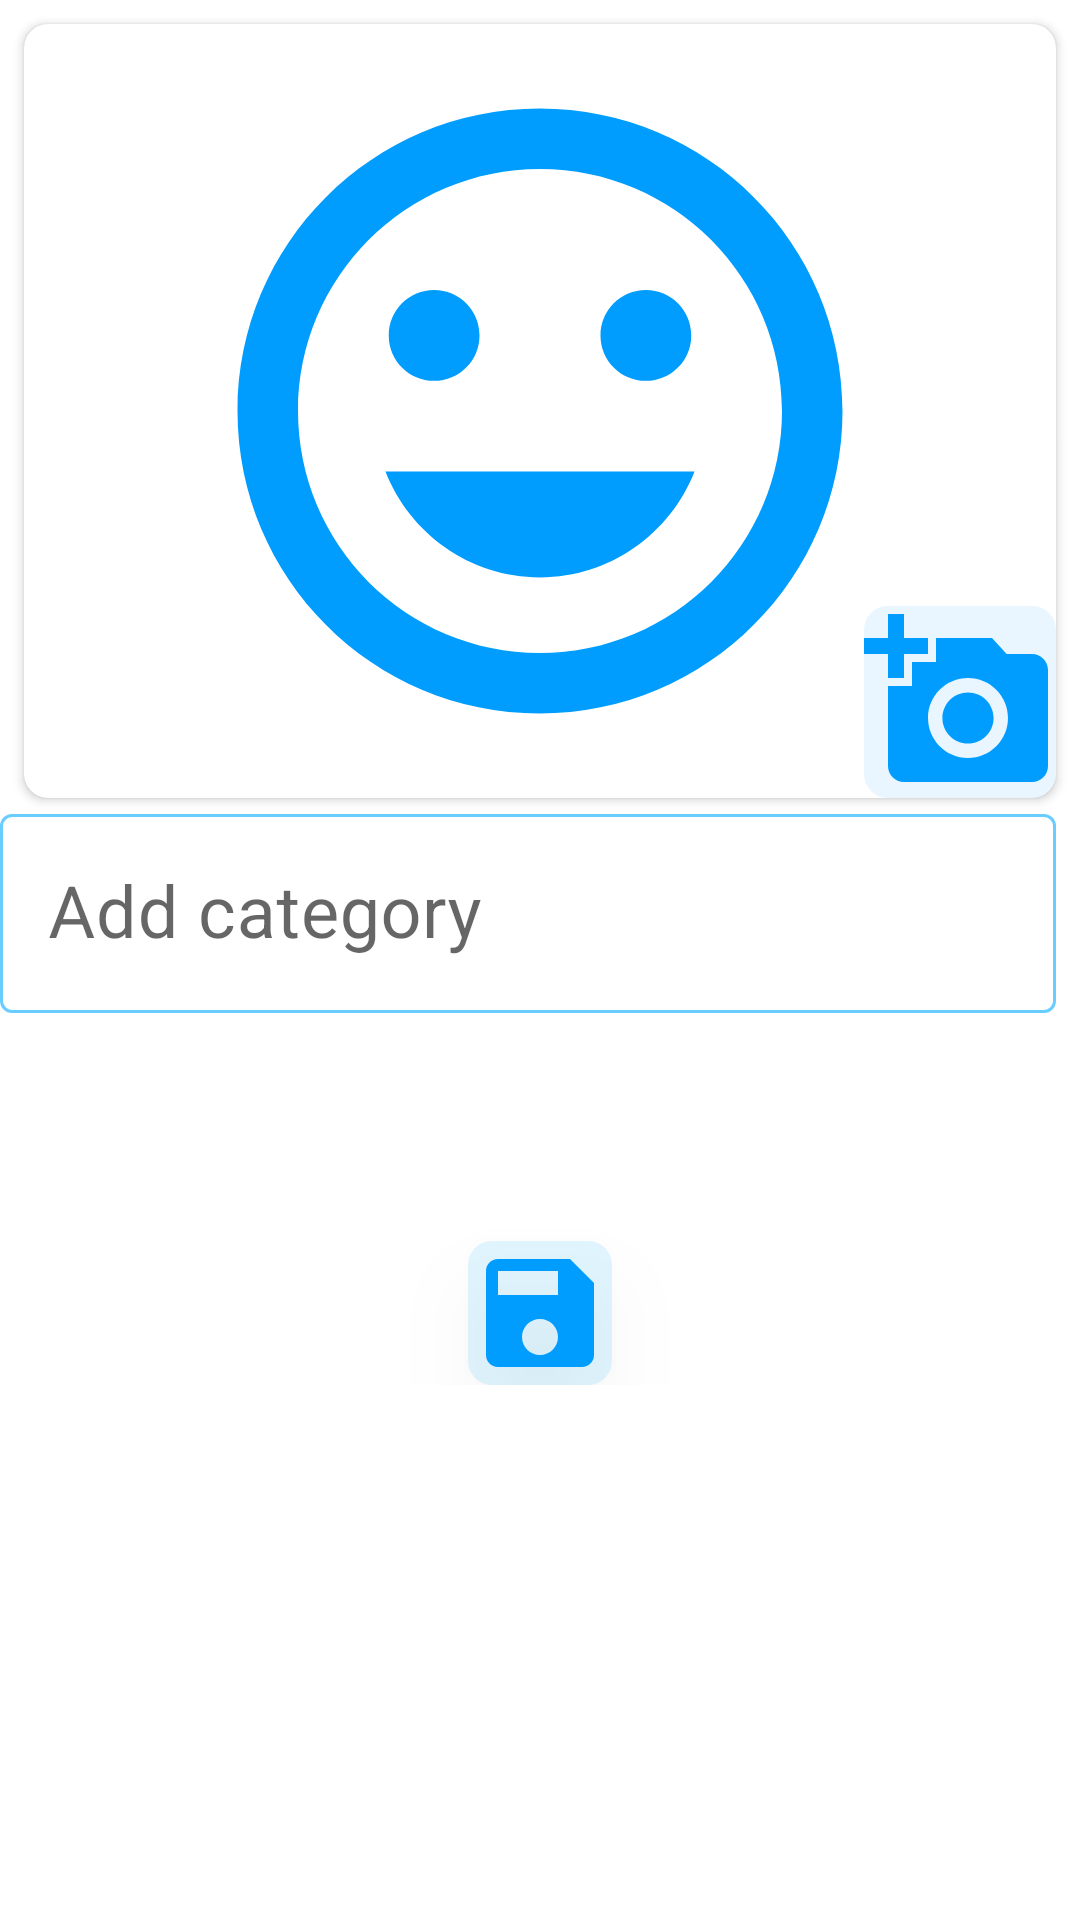

Screen size 1080 × 1920. Icon name, then its center in pixels as (x,y):
save: (540,1313)
take picture: (956,698)
